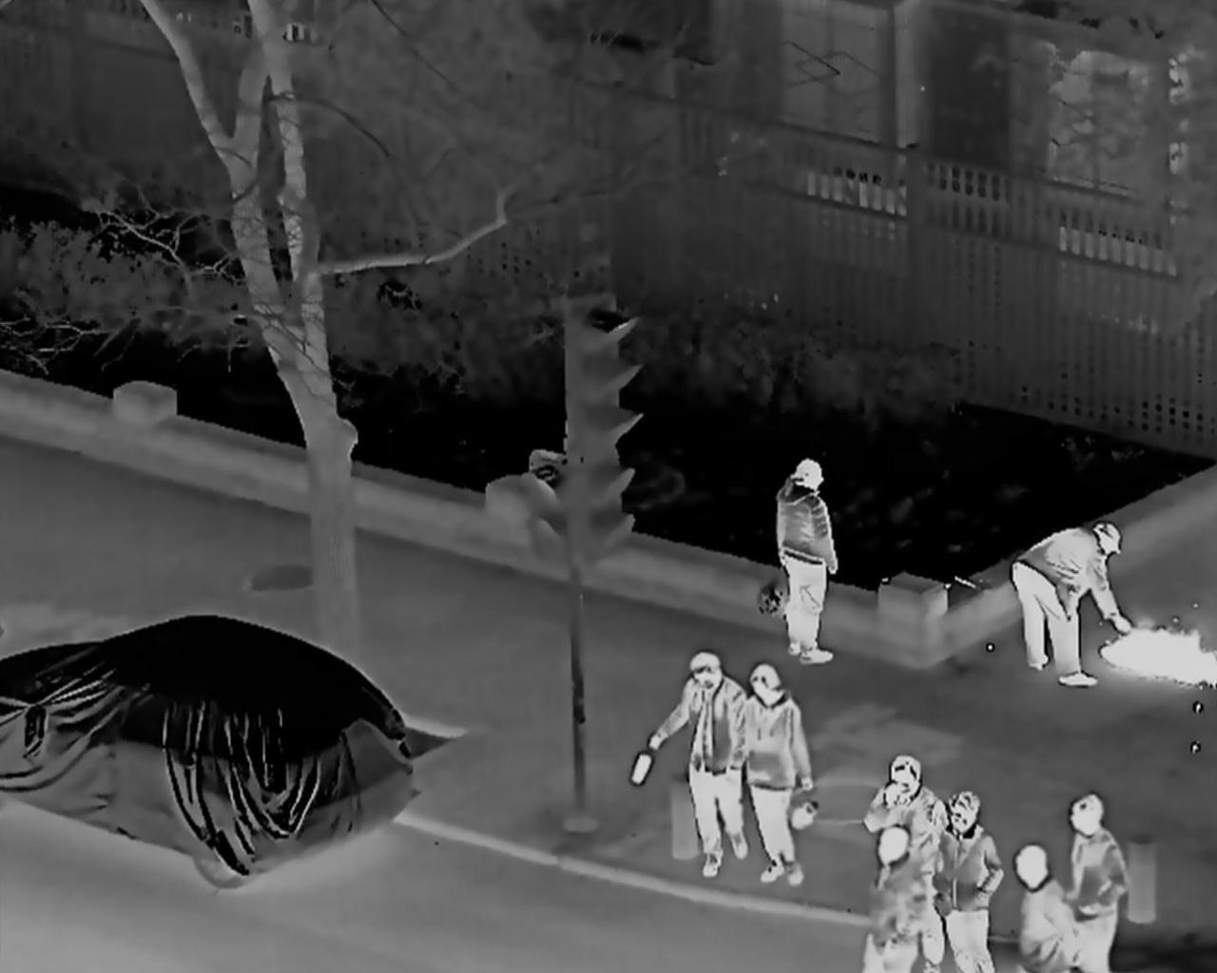person: (645, 650, 753, 877), (1006, 520, 1130, 685), (862, 752, 942, 973), (767, 454, 841, 669), (744, 662, 813, 891), (938, 793, 1000, 973), (1066, 791, 1122, 973), (861, 830, 923, 973), (1008, 845, 1074, 973)
